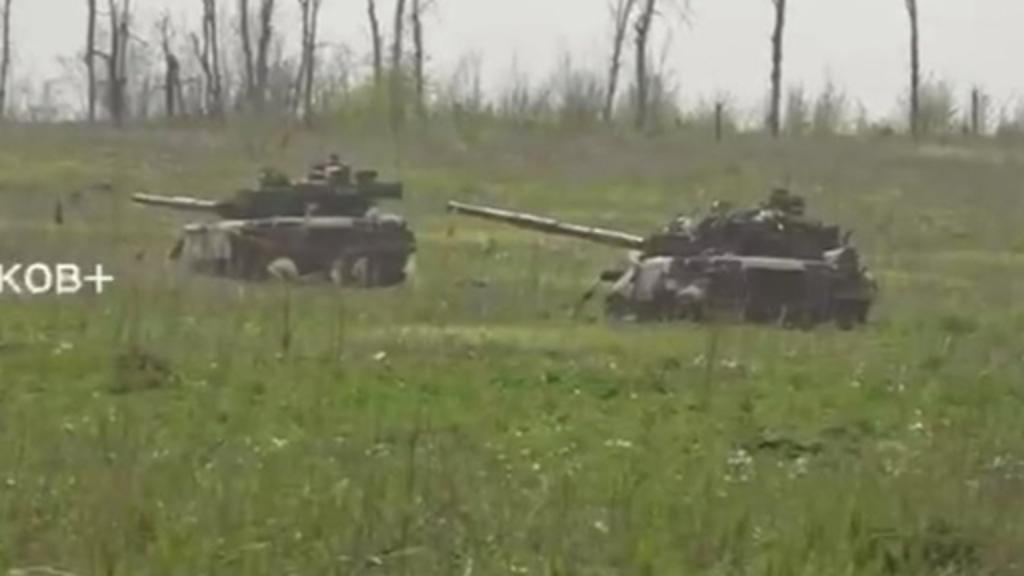TANK: (444, 186, 878, 334), (118, 154, 422, 292)
